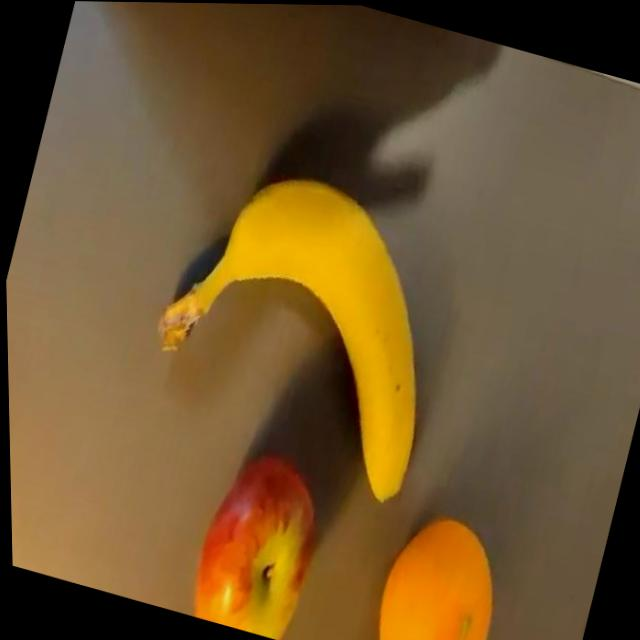Apple: (179, 441, 336, 640)
Banana: (124, 146, 473, 508)
Orange: (359, 503, 513, 640)
